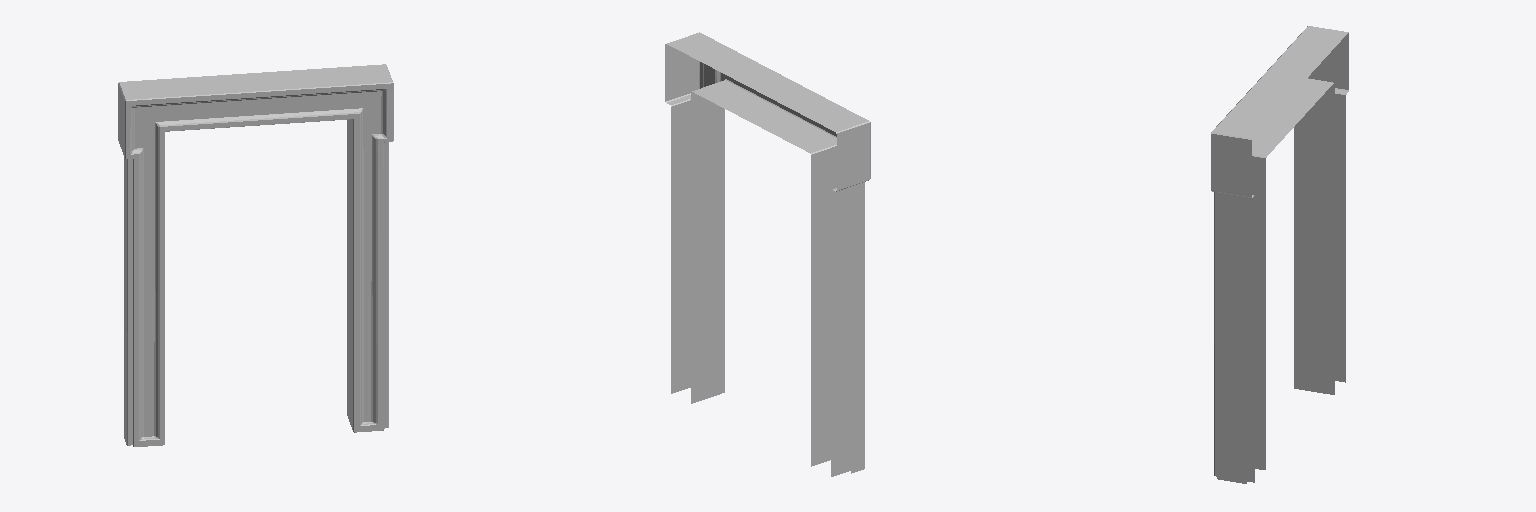
The picture shows the model from 3 angles: view 1: azimuth 30°, elevation 25°; view 2: azimuth 150°, elevation 25°; view 3: azimuth 270°, elevation 25°; orthographic projection.
Parts seen in each view (by area): view 1: Bistro_Research_Exterior_Paris_Building_01_paris_buildi_b62c023; view 2: Bistro_Research_Exterior_Paris_Building_01_paris_buildi_b62c023; view 3: Bistro_Research_Exterior_Paris_Building_01_paris_buildi_b62c023.
Part boxes in pixels (left/top/right/bottom): Bistro_Research_Exterior_Paris_Building_01_paris_buildi_b62c023: left=118, top=64, right=393, bottom=446; Bistro_Research_Exterior_Paris_Building_01_paris_buildi_b62c023: left=665, top=32, right=870, bottom=476; Bistro_Research_Exterior_Paris_Building_01_paris_buildi_b62c023: left=1211, top=26, right=1348, bottom=483.
Size of the model in its own units: 2.44 by 3.47 by 1.25.